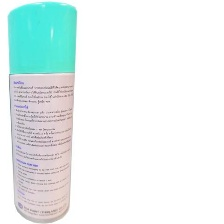aerosol_cans: (4, 0, 80, 224)
